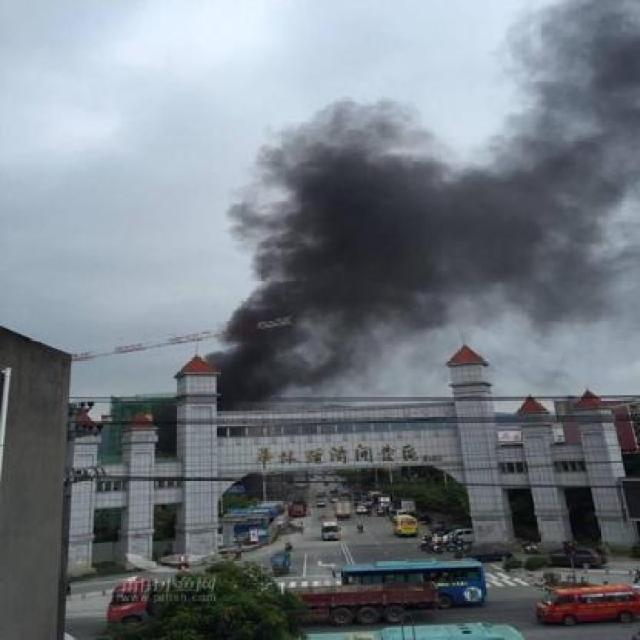Smoke: (216, 18, 640, 401)
